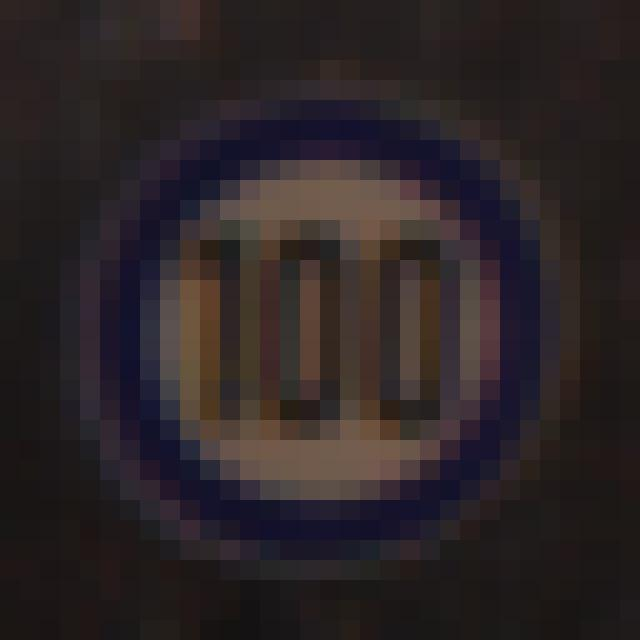SPEED LIMIT 100: (85, 105, 573, 567)
